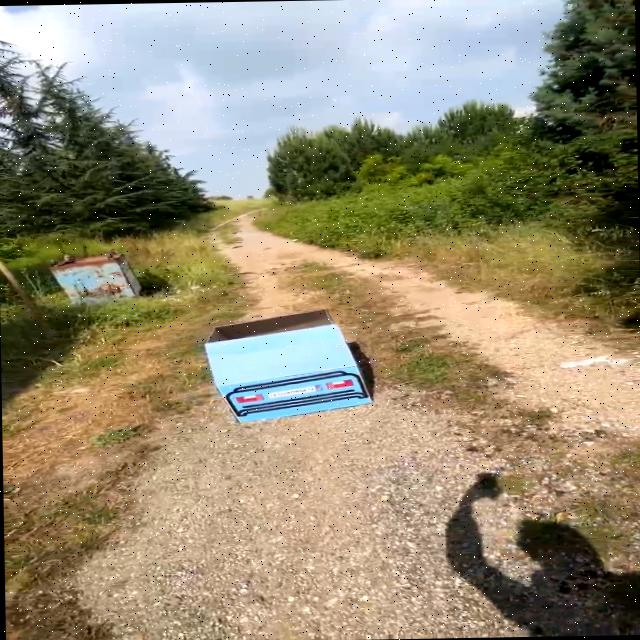blue_car: (192, 301, 383, 440)
